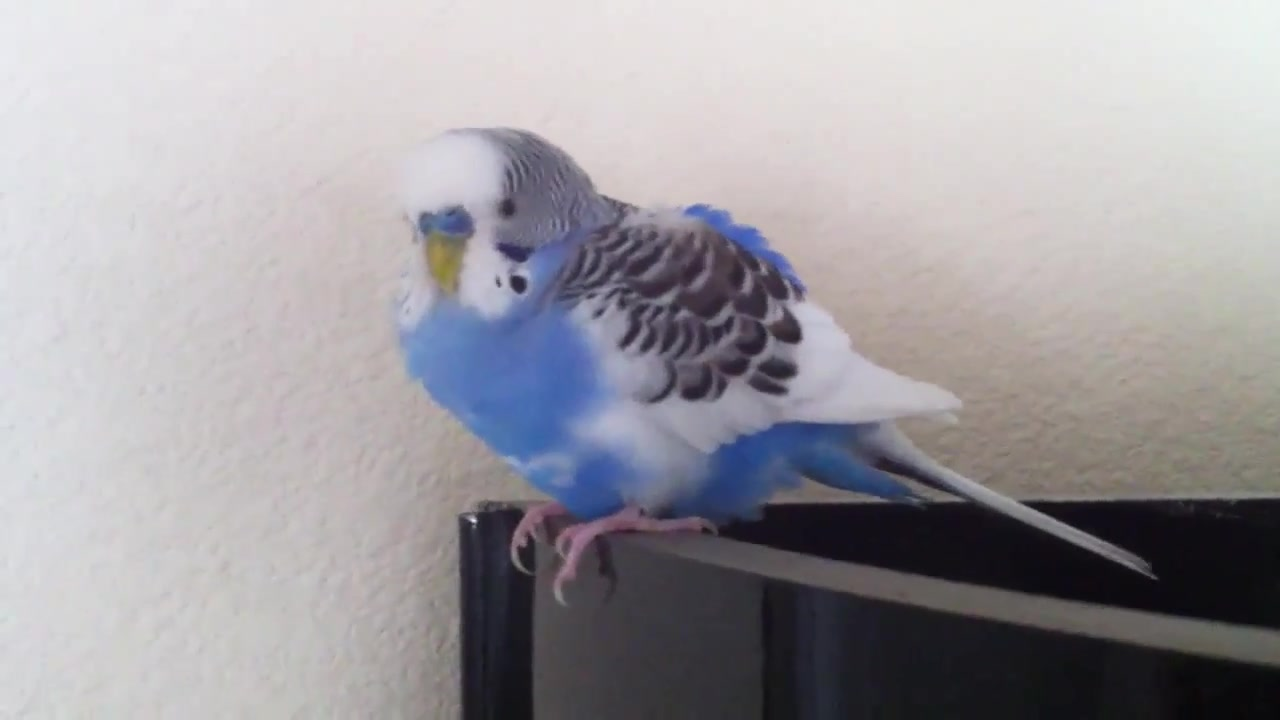bird: (393, 125, 1163, 610)
